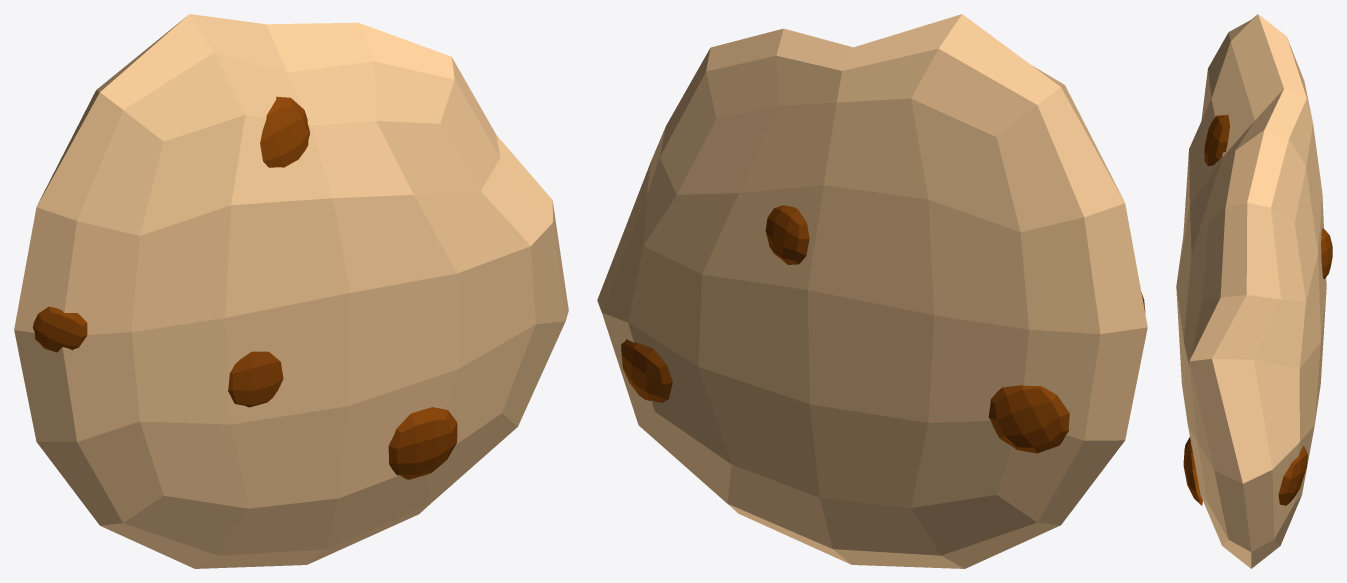
Rendered from cookie.glb.
3 views of the same model, side by side, from view 1: azimuth 30°, elevation 25°; view 2: azimuth 150°, elevation 25°; view 3: azimuth 270°, elevation 25° (orthographic). The views are drawn at different scales.
Visible parts, largest first — view 1: Cube.014; view 2: Cube.014; view 3: Cube.014.
Boxes of the visible parts, x1=… form: Cube.014: x1=14, y1=14, x2=568, y2=568; Cube.014: x1=597, y1=14, x2=1147, y2=568; Cube.014: x1=1176, y1=14, x2=1332, y2=568.
Bounding box in the file's own units: 10.24 × 10.25 × 3.01.
